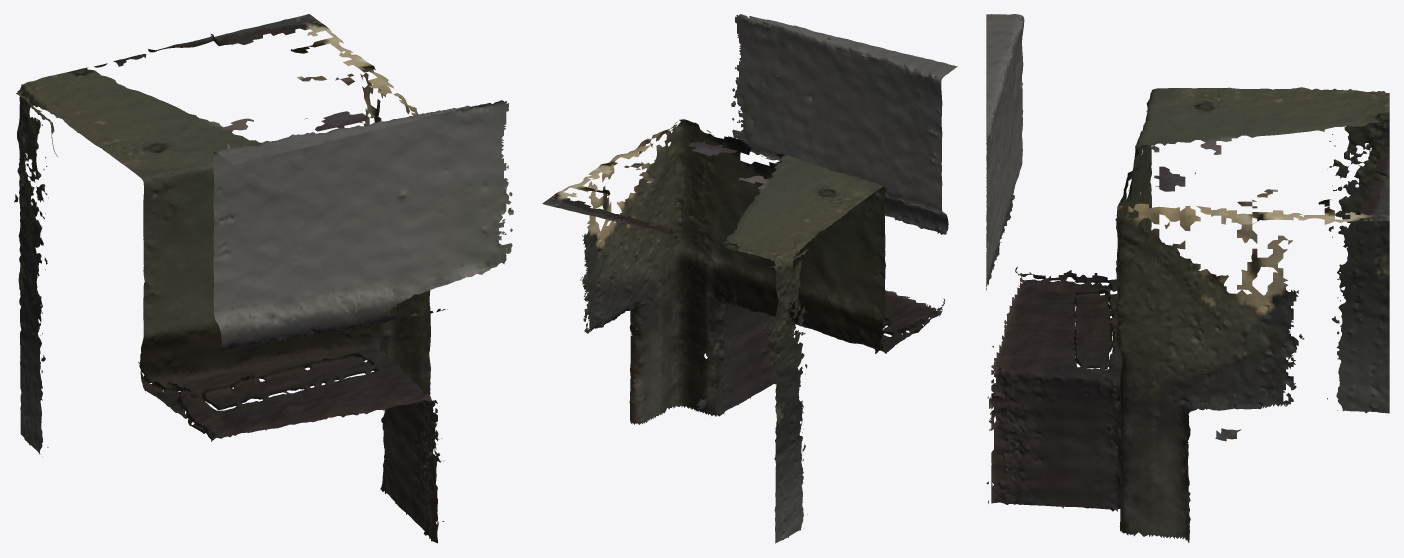
File: fine.glb
3 renders of one model, left to right at view 1: azimuth 30°, elevation 25°; view 2: azimuth 150°, elevation 25°; view 3: azimuth 270°, elevation 25°, orthographic. The views are drawn at different scales.
Bounding box in the file's own units: 1.07 × 1.53 × 1.38.
